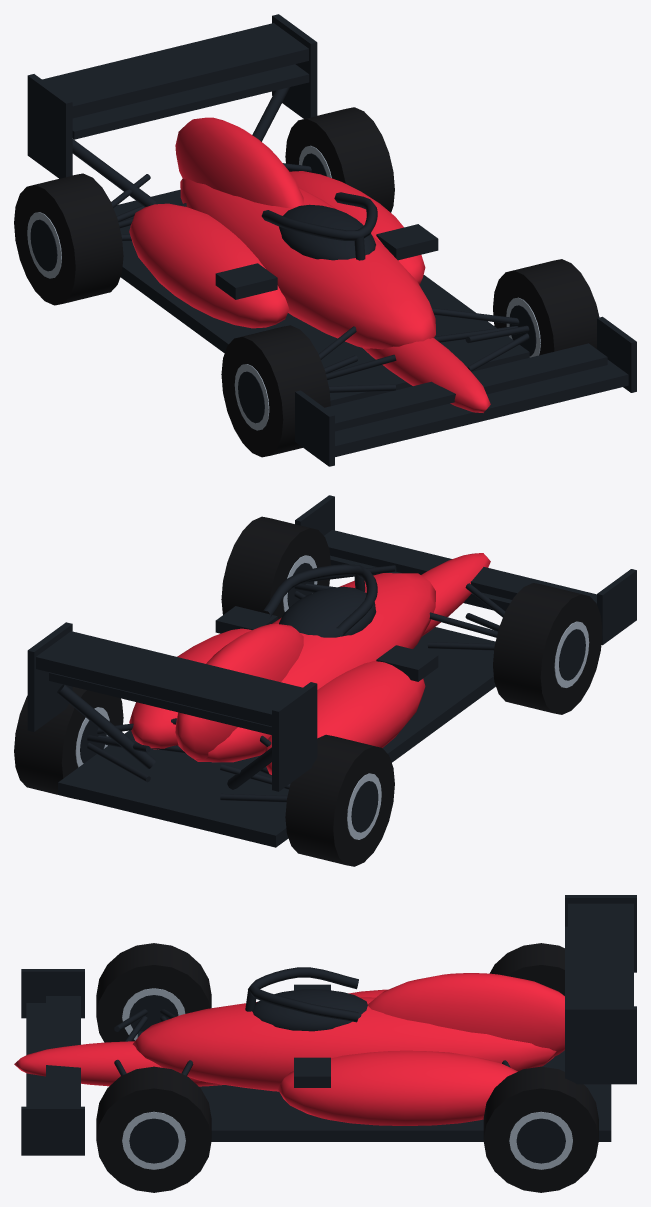
The model's file is medium.glb.
3 views of the same model, one above another, from view 1: azimuth 30°, elevation 25°; view 2: azimuth 150°, elevation 25°; view 3: azimuth 270°, elevation 25° (orthographic). The views are drawn at different scales.
Visible parts, largest first — view 1: GL_Car_Body, GL_Car_Wheel_RL, object 13, object 4, GL_Car_Wheel_FL, GL_Car_Wheel_FR, object 5, GL_Car_Wheel_RR, object 6, object 14, object 8, object 3 (+9 smaller); view 2: GL_Car_Body, object 4, GL_Car_Wheel_FL, GL_Car_Wheel_RL, object 13, GL_Car_Wheel_FR, GL_Car_Wheel_RR, object 6, object 8, object 3, object 11, object 14 (+8 smaller); view 3: GL_Car_Body, GL_Car_Wheel_FR, GL_Car_Wheel_RR, object 4, GL_Car_Wheel_FL, object 13, object 11, object 6, object 10, object 3, GL_Car_Wheel_RL, object 15 (+4 smaller).
Part boxes in pixels (<box>): GL_Car_Body: <box>129,117,490,412</box>; GL_Car_Wheel_RL: <box>14,173,123,305</box>; object 13: <box>42,23,308,118</box>; object 4: <box>113,189,529,405</box>; GL_Car_Wheel_FL: <box>221,325,330,457</box>; GL_Car_Wheel_FR: <box>493,259,599,357</box>; object 5: <box>335,360,628,456</box>; GL_Car_Wheel_RR: <box>285,107,394,212</box>; object 6: <box>325,343,607,431</box>; object 14: <box>72,64,309,139</box>; object 8: <box>27,74,72,178</box>; object 3: <box>279,204,375,260</box>; GL_Car_Body: <box>129,553,490,774</box>; object 4: <box>58,627,495,847</box>; GL_Car_Wheel_FL: <box>493,583,602,714</box>; GL_Car_Wheel_RL: <box>285,734,394,866</box>; object 13: <box>36,631,302,726</box>; GL_Car_Wheel_FR: <box>221,516,330,619</box>; GL_Car_Wheel_RR: <box>14,687,123,799</box>; object 6: <box>324,530,596,603</box>; object 8: <box>272,682,317,791</box>; object 3: <box>279,586,376,637</box>; object 11: <box>27,622,72,731</box>; object 14: <box>49,672,271,734</box>; GL_Car_Body: <box>14,973,564,1125</box>; GL_Car_Wheel_FR: <box>96,1066,211,1192</box>; GL_Car_Wheel_RR: <box>483,1066,598,1192</box>; object 4: <box>137,1031,611,1141</box>; GL_Car_Wheel_FL: <box>96,943,211,1042</box>; object 13: <box>568,903,633,1006</box>; object 11: <box>565,1006,636,1084</box>; object 6: <box>46,996,80,1106</box>; object 10: <box>21,1106,84,1155</box>; object 3: <box>252,989,367,1031</box>; GL_Car_Wheel_RL: <box>489,943,564,995</box>; object 15: <box>248,967,358,1022</box>.
Size of the model in its own units: 1.68 by 0.9 by 3.02.
